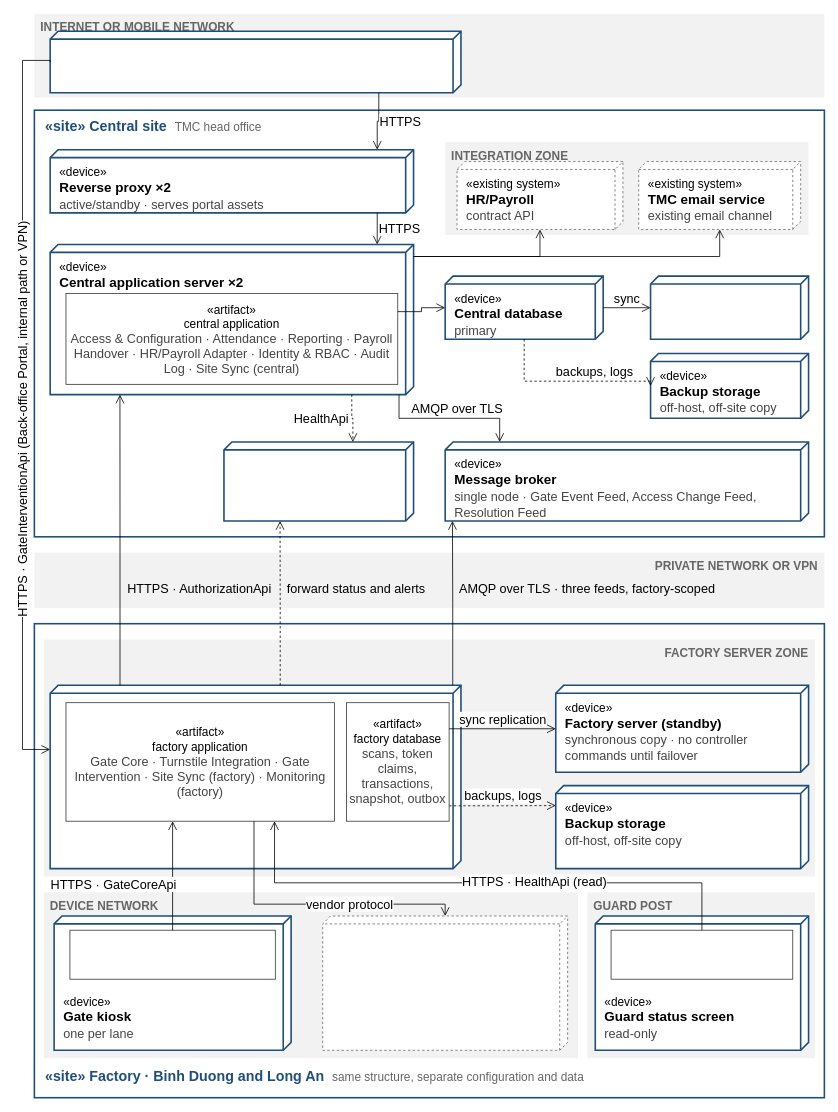
Some shapes in this 838 by 1112 pixel diagram are drawn without their labels. Each missing label, with the box of its shape:
«artifact» Guard Status Display: (610, 929, 793, 979)
«artifact» Station Client: (69, 929, 275, 979)
«device» Central database synchronous standby: (649, 275, 809, 340)
«device» Factory server (primary): (49, 684, 461, 869)
«device» Monitoring server central deployment of Monitoring: (223, 441, 414, 521)
«device» User devices Employee Portal · Back-office Portal: (49, 30, 461, 93)
«existing device» Turnstile controller existing turnstile system · one per lane: (322, 915, 568, 1050)
